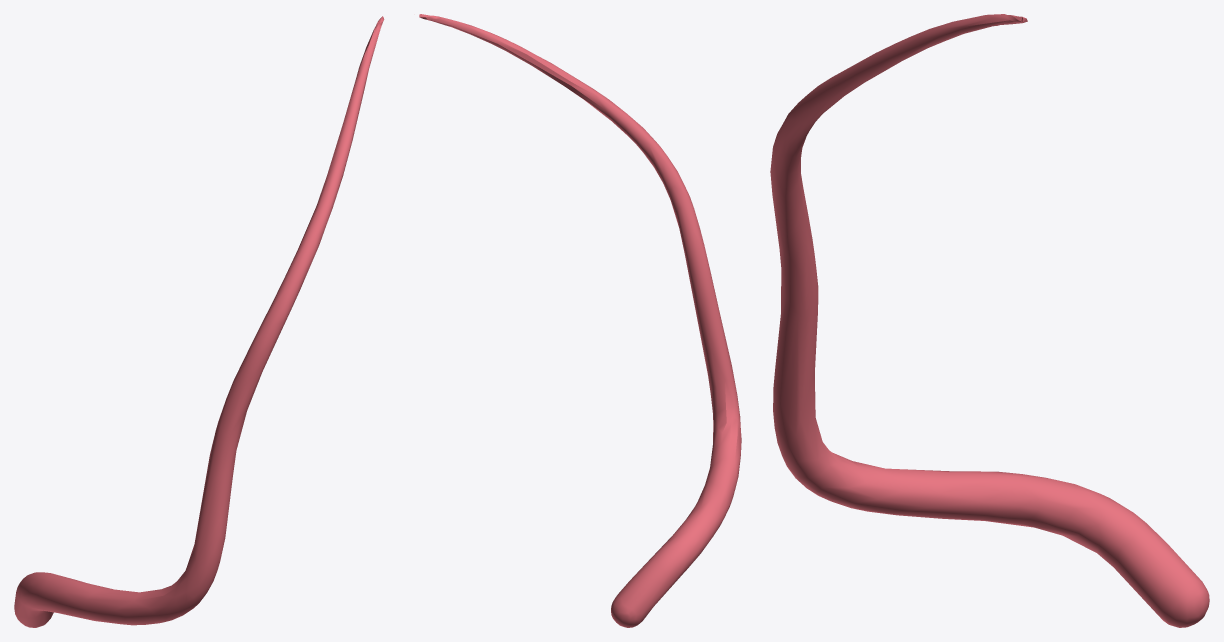
Rendered from fma50352_fj1681m.glb.
The picture shows the model from 3 angles, left to right: view 1: azimuth 30°, elevation 25°; view 2: azimuth 150°, elevation 25°; view 3: azimuth 270°, elevation 25°; orthographic projection. The views are drawn at different scales.
Parts seen in each view (by area): view 1: FMA50352_FJ1681M; view 2: FMA50352_FJ1681M; view 3: FMA50352_FJ1681M.
Boxes of the visible parts, bbox=[...] form: FMA50352_FJ1681M: bbox=[14, 16, 384, 627]; FMA50352_FJ1681M: bbox=[419, 14, 741, 627]; FMA50352_FJ1681M: bbox=[770, 14, 1209, 627].
Size of the model in its own units: 0.0146 by 0.0238 by 0.0118.
